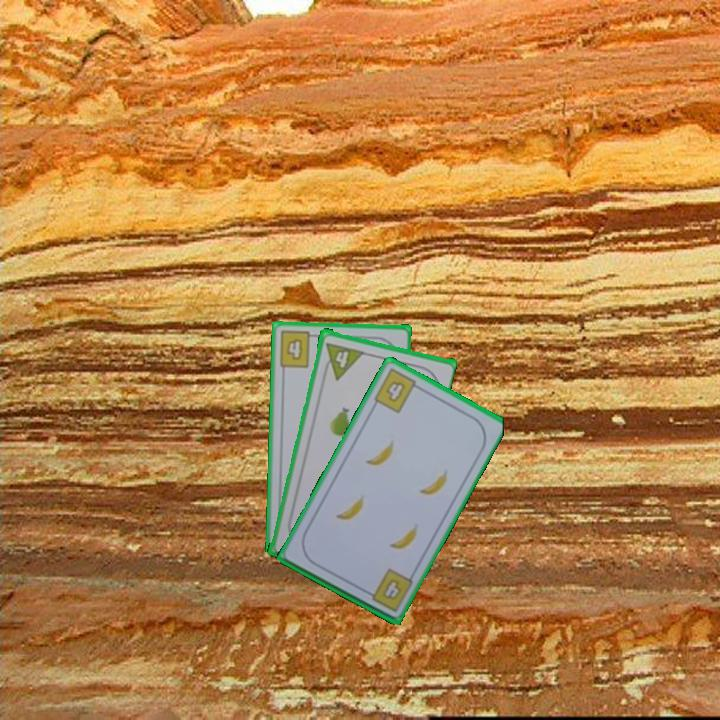4b: (370, 365, 424, 416), (361, 565, 416, 615), (275, 328, 320, 370)
4p: (319, 338, 366, 382)
